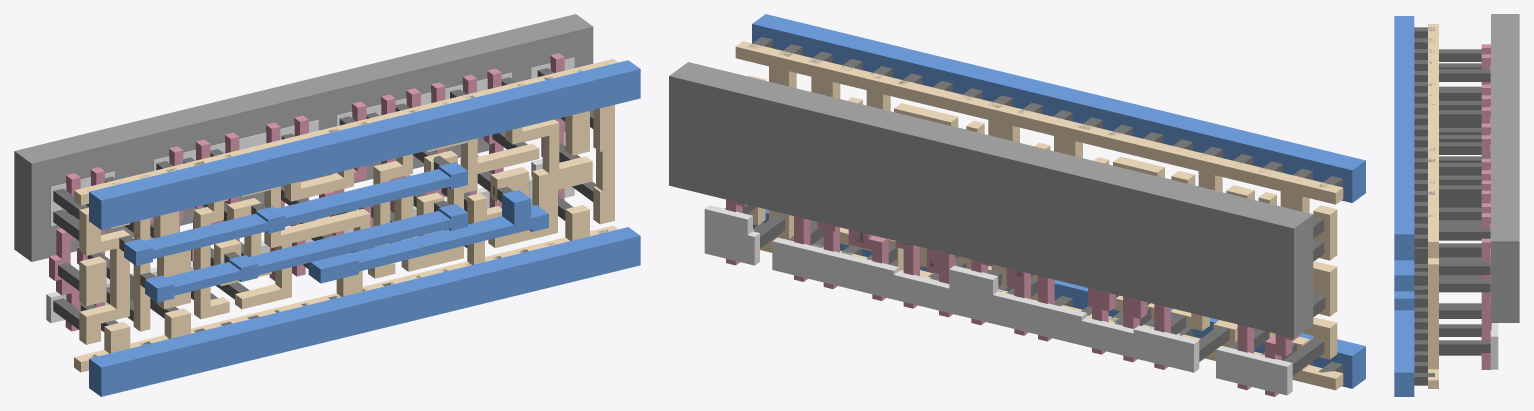
The model's file is sky130_fd_sc_hd__dfrtn_1.gds.gltf.
3 renders of one model, left to right at view 1: azimuth 30°, elevation 25°; view 2: azimuth 150°, elevation 25°; view 3: azimuth 270°, elevation 25°, orthographic. The views are drawn at different scales.
Visible parts, largest first — view 1: sky130_fd_sc_hd__dfrtn_1_met1, sky130_fd_sc_hd__dfrtn_1_li1, sky130_fd_sc_hd__dfrtn_1_nwell, sky130_fd_sc_hd__dfrtn_1_poly, sky130_fd_sc_hd__dfrtn_1_licon, sky130_fd_sc_hd__dfrtn_1_diff, sky130_fd_sc_hd__dfrtn_1_mcon; view 2: sky130_fd_sc_hd__dfrtn_1_nwell, sky130_fd_sc_hd__dfrtn_1_li1, sky130_fd_sc_hd__dfrtn_1_met1, sky130_fd_sc_hd__dfrtn_1_diff, sky130_fd_sc_hd__dfrtn_1_poly, sky130_fd_sc_hd__dfrtn_1_licon, sky130_fd_sc_hd__dfrtn_1_mcon; view 3: sky130_fd_sc_hd__dfrtn_1_licon, sky130_fd_sc_hd__dfrtn_1_nwell, sky130_fd_sc_hd__dfrtn_1_met1, sky130_fd_sc_hd__dfrtn_1_mcon, sky130_fd_sc_hd__dfrtn_1_li1, sky130_fd_sc_hd__dfrtn_1_poly, sky130_fd_sc_hd__dfrtn_1_diff.
Boxes of the visible parts, <box> form: sky130_fd_sc_hd__dfrtn_1_met1: <box>89,60,640,396</box>; sky130_fd_sc_hd__dfrtn_1_li1: <box>74,58,618,372</box>; sky130_fd_sc_hd__dfrtn_1_nwell: <box>14,14,593,261</box>; sky130_fd_sc_hd__dfrtn_1_poly: <box>49,53,564,331</box>; sky130_fd_sc_hd__dfrtn_1_licon: <box>53,68,595,331</box>; sky130_fd_sc_hd__dfrtn_1_diff: <box>46,57,574,323</box>; sky130_fd_sc_hd__dfrtn_1_mcon: <box>87,63,608,357</box>; sky130_fd_sc_hd__dfrtn_1_nwell: <box>669,62,1313,337</box>; sky130_fd_sc_hd__dfrtn_1_li1: <box>735,41,1343,390</box>; sky130_fd_sc_hd__dfrtn_1_met1: <box>752,14,1365,388</box>; sky130_fd_sc_hd__dfrtn_1_diff: <box>704,205,1292,395</box>; sky130_fd_sc_hd__dfrtn_1_poly: <box>726,199,1299,396</box>; sky130_fd_sc_hd__dfrtn_1_licon: <box>725,82,1325,375</box>; sky130_fd_sc_hd__dfrtn_1_mcon: <box>748,37,1342,372</box>; sky130_fd_sc_hd__dfrtn_1_licon: <box>1439,49,1490,355</box>; sky130_fd_sc_hd__dfrtn_1_nwell: <box>1491,14,1519,322</box>; sky130_fd_sc_hd__dfrtn_1_met1: <box>1394,16,1414,396</box>; sky130_fd_sc_hd__dfrtn_1_mcon: <box>1414,27,1434,385</box>; sky130_fd_sc_hd__dfrtn_1_li1: <box>1428,24,1438,388</box>; sky130_fd_sc_hd__dfrtn_1_poly: <box>1481,44,1491,369</box>; sky130_fd_sc_hd__dfrtn_1_diff: <box>1490,65,1498,369</box>.
Size of the model in its own units: 9.58 by 3.2 by 2.24.
